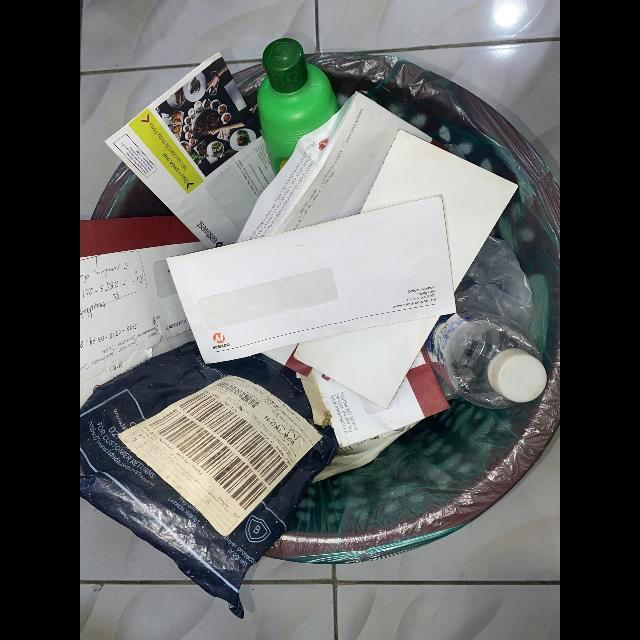paper: (165, 196, 457, 364), (104, 53, 275, 249), (235, 92, 446, 246), (361, 130, 518, 291), (80, 216, 207, 410), (293, 316, 440, 409), (314, 352, 450, 448), (261, 343, 313, 377)
plastic_bag: (80, 341, 341, 619)
plastic_bottle: (426, 307, 547, 410), (257, 38, 342, 177)
